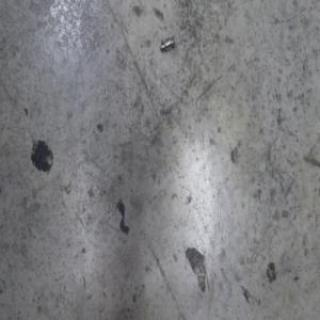Bolttrack_idkeyframe: (159, 32, 175, 52)
